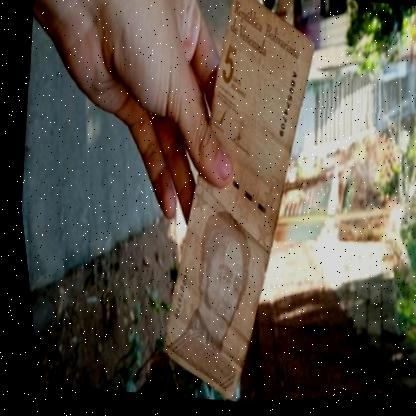vef_front: (118, 0, 349, 410)
